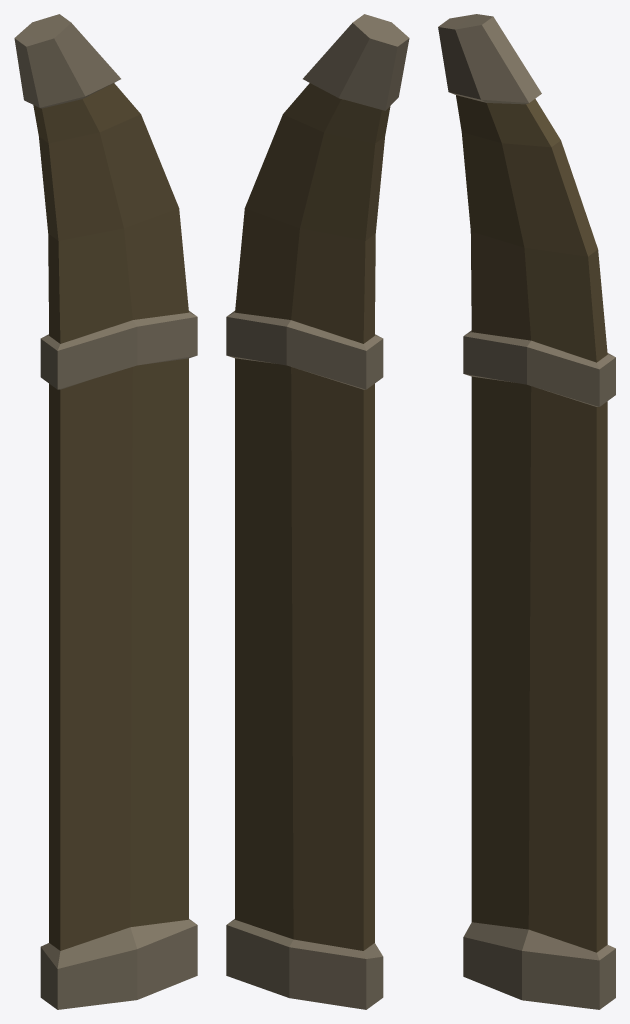
The model's file is Cutlass_1_Sheath.fbx.
3 views of the same model, side by side, from view 1: azimuth 30°, elevation 25°; view 2: azimuth 150°, elevation 25°; view 3: azimuth 330°, elevation 25° (orthographic). The views are drawn at different scales.
Visible parts, largest first — view 1: Cutlass_1_Sheath; view 2: Cutlass_1_Sheath; view 3: Cutlass_1_Sheath.
Part boxes in pixels (bbox=[...]): Cutlass_1_Sheath: bbox=[14, 14, 197, 1009]; Cutlass_1_Sheath: bbox=[226, 14, 409, 1009]; Cutlass_1_Sheath: bbox=[438, 14, 615, 1009].
Bounding box in the file's own units: 13.85 × 77 × 4.81.
